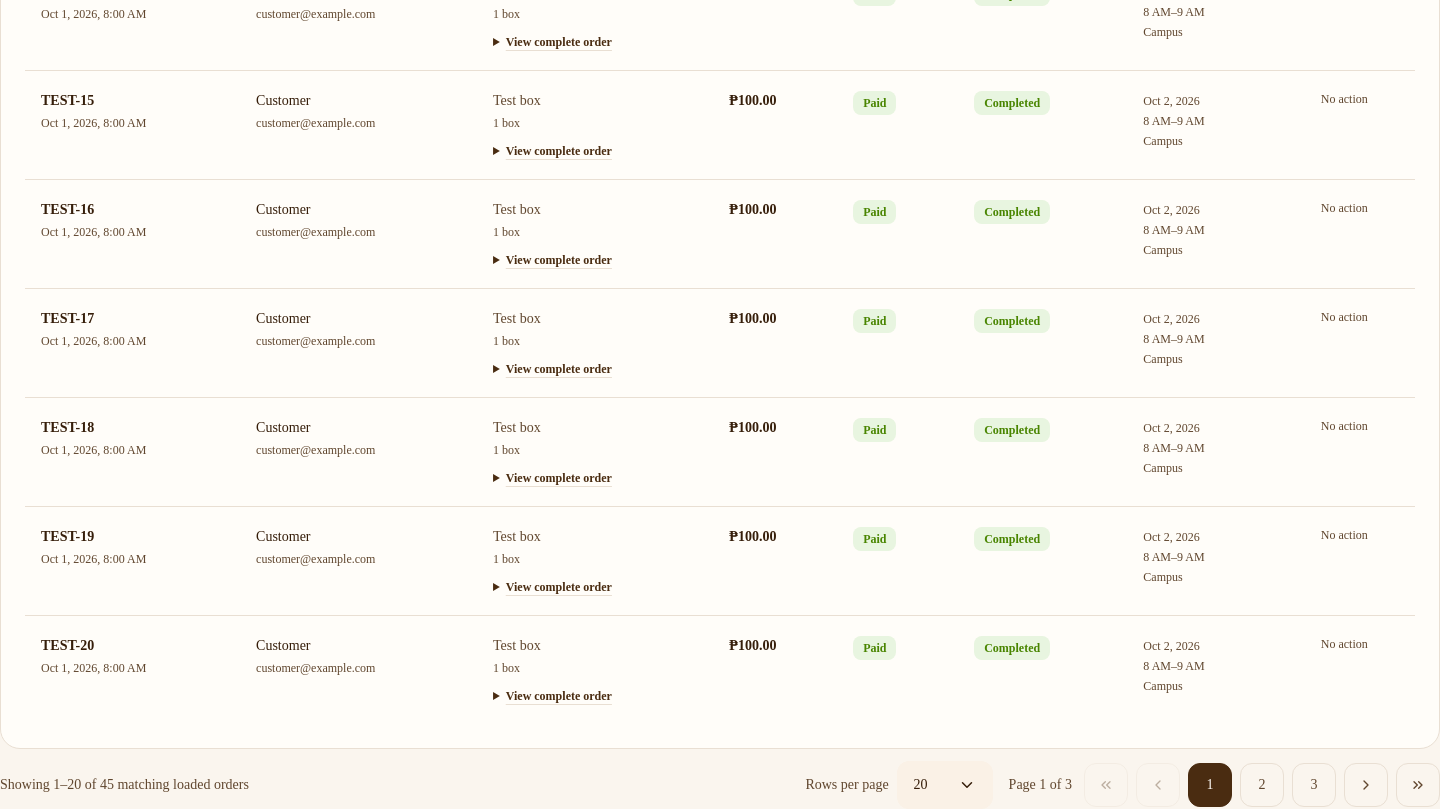
Test: Admin order pagination › pages the same order set in desktop and mobile views
(page scrolled)
Expected: the text "Showing 1–20 of 45 matching loaded orders" is shown, [0,775,249,795]
Expected: the button named "First page" is disabled, [1084,763,1128,807]
Click the button named "Next page". click: (1366,785)
box: [1344,763,1388,807]
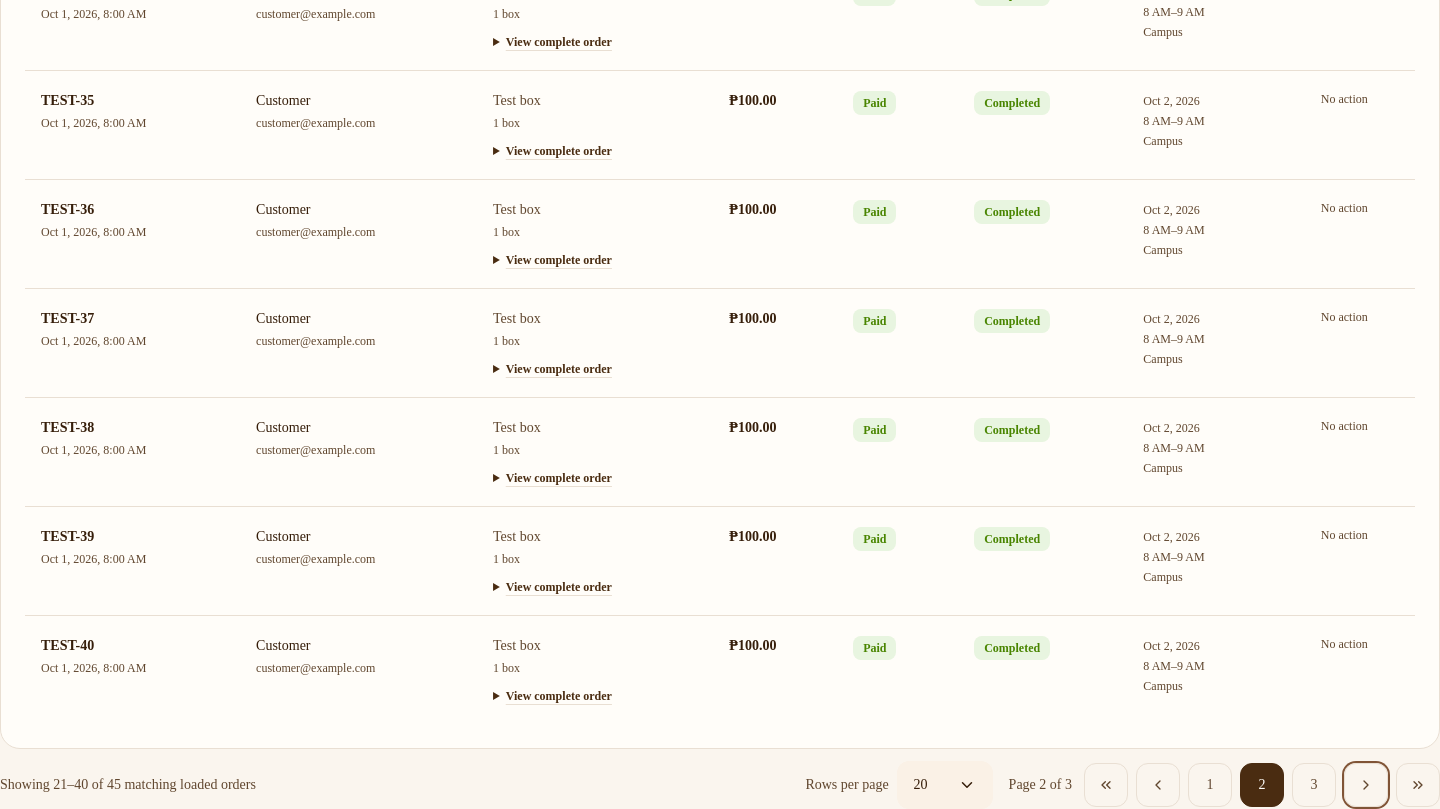
Expected: the column heading "TEST-1" is not shown
Result: the text "Showing 21–40 of 45 matching loaded orders" is shown at [0,775,256,795]
Click the button named "Last page". click: (1418,785)
box: [1396,763,1439,807]
(page scrolled)
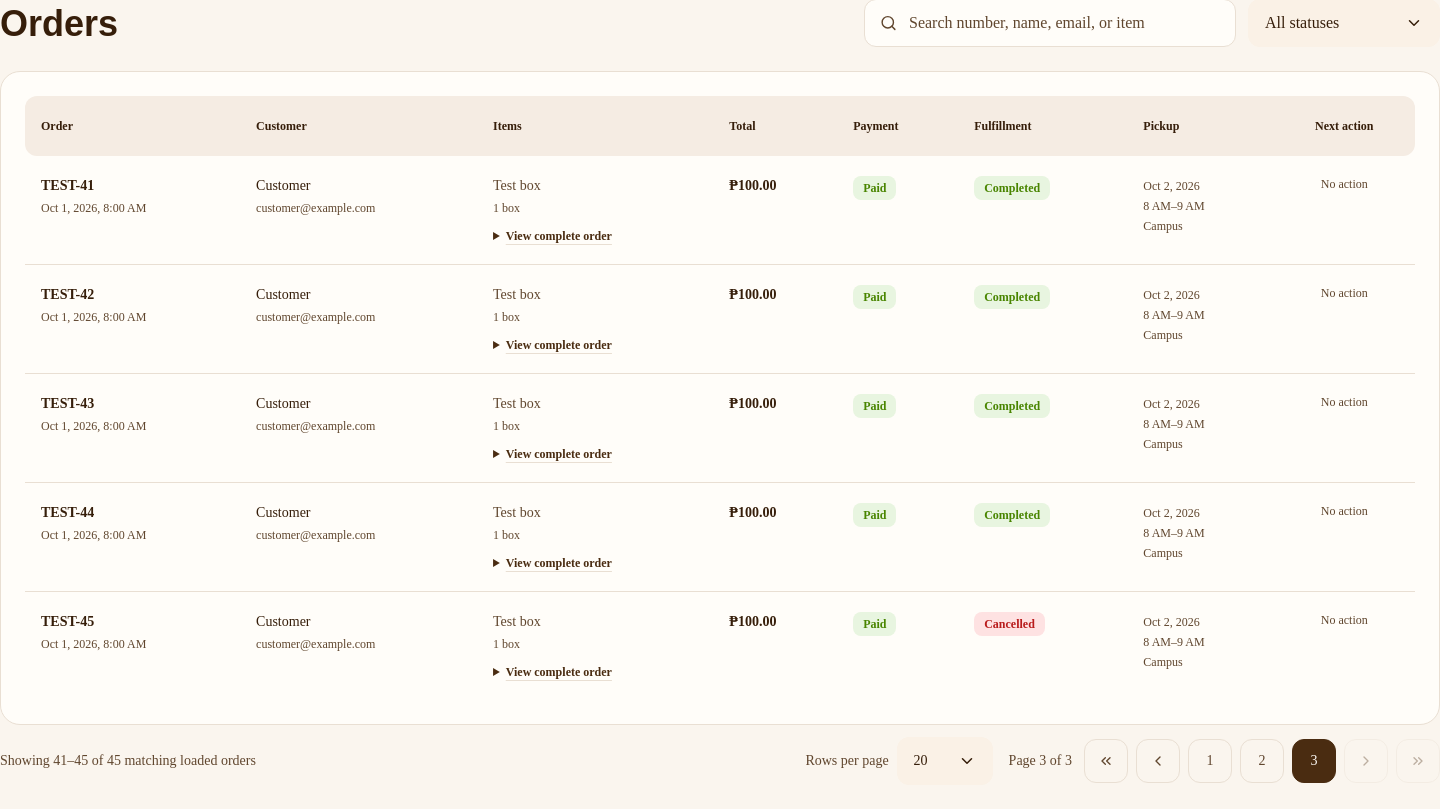
Result: the text "Showing 41–45 of 45 matching loaded orders" is shown at [0,751,256,771]
Result: the button named "Next page" is disabled at [1344,739,1388,783]
